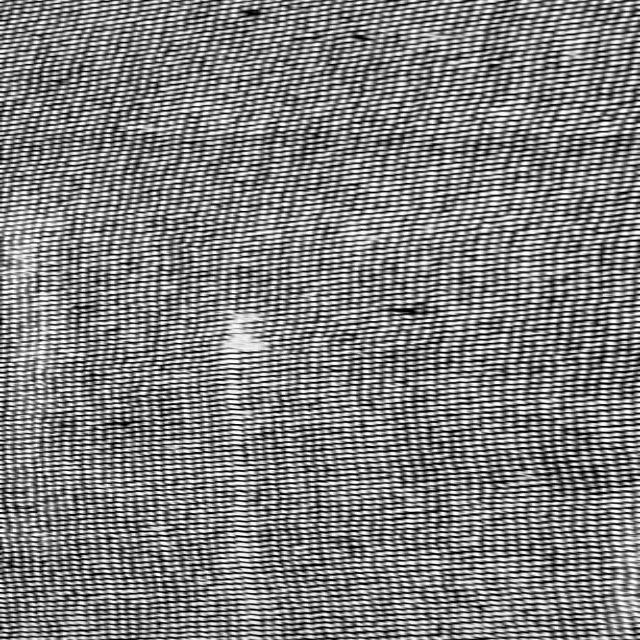Foreign_yarn: (210, 294, 289, 640)
